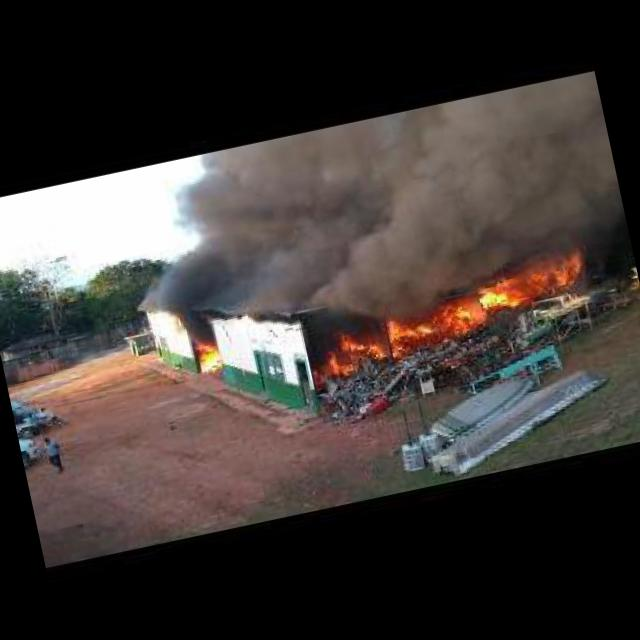fire: (476, 242, 593, 324), (382, 292, 484, 363), (306, 318, 389, 386), (192, 336, 224, 374)
smoke: (115, 68, 632, 354)
